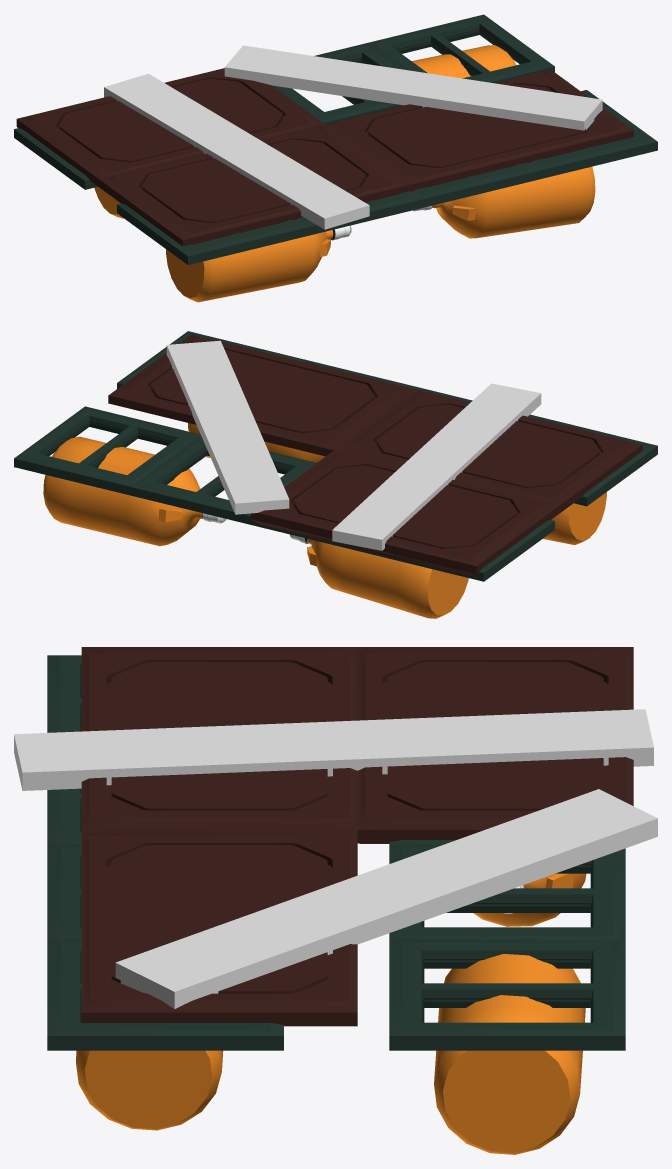
File: Platform3.fbx
The picture shows the model from 3 angles, top to bottom: view 1: azimuth 30°, elevation 25°; view 2: azimuth 150°, elevation 25°; view 3: azimuth 270°, elevation 25°; orthographic projection. The views are drawn at different scales.
Visible parts, largest first — view 1: Box279, Box281, Box280, Box278, Box277, Cylinder022, Cylinder019, Cylinder021; view 2: Box279, Box277, Box280, Box281, Cylinder021, Cylinder020, Box278, Cylinder019, Cylinder022; view 3: Box279, Box281, Box280, Box277, Cylinder021, Box278, Cylinder022, Cylinder020.
Part boxes in pixels (x1,y1,x2,y2): Box279: (16, 68, 633, 246); Box281: (224, 45, 602, 130); Box280: (104, 73, 369, 229); Box278: (117, 90, 657, 264); Box277: (14, 14, 554, 189); Cylinder022: (413, 166, 595, 238); Cylinder019: (166, 225, 351, 302); Cylinder021: (412, 45, 516, 78); Box279: (108, 334, 642, 575); Box277: (14, 406, 554, 581); Box280: (332, 383, 541, 550); Box281: (166, 340, 289, 514); Cylinder021: (43, 436, 226, 546); Cylinder020: (289, 534, 468, 618); Box278: (117, 331, 657, 506); Cylinder019: (543, 492, 606, 544); Cylinder022: (188, 423, 325, 462); Box279: (81, 647, 633, 1026); Box281: (115, 789, 657, 1009); Box280: (14, 709, 653, 790); Box277: (389, 840, 625, 1050); Cylinder021: (434, 954, 585, 1154); Box278: (47, 655, 283, 1050); Cylinder022: (76, 1050, 223, 1130); Cylinder020: (473, 873, 586, 926).
Size of the model in its own units: 78.25 by 16.64 by 55.9.
